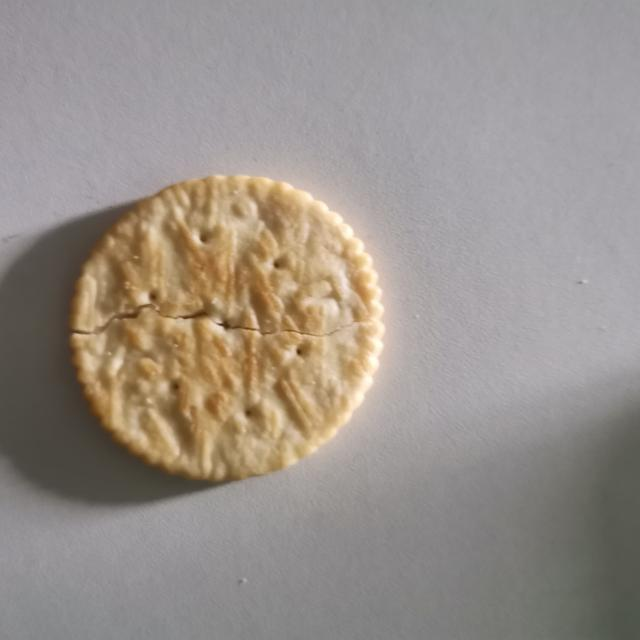Fracture: (68, 299, 383, 348)
